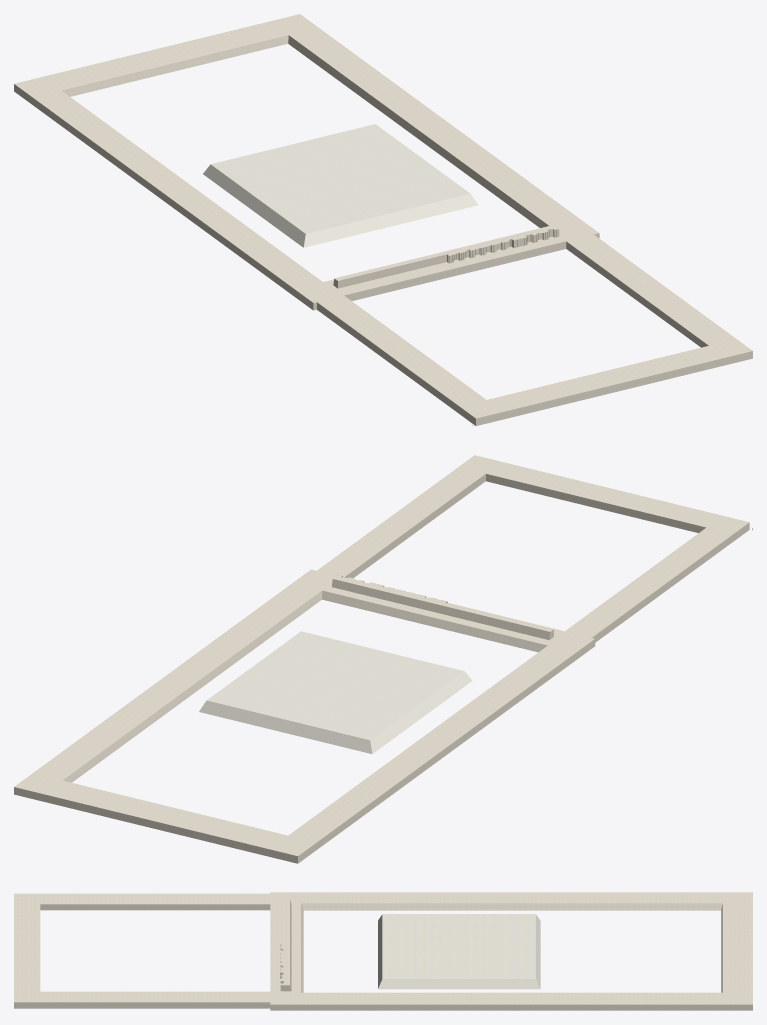
The model's file is Sekhemkhet_Pyramid.obj.
3 renders of one model, top to bottom at view 1: azimuth 30°, elevation 25°; view 2: azimuth 150°, elevation 25°; view 3: azimuth 270°, elevation 25°, orthographic. The views are drawn at different scales.
Parts seen in each view (by area): view 1: Mesh2 Model, Mesh1 Model; view 2: Mesh2 Model, Mesh1 Model; view 3: Mesh2 Model, Mesh1 Model.
Part boxes in pixels (<box>): Mesh2 Model: <box>14,14,752,425</box>; Mesh1 Model: <box>203,124,477,247</box>; Mesh2 Model: <box>14,455,749,863</box>; Mesh1 Model: <box>199,631,472,753</box>; Mesh2 Model: <box>14,892,752,1010</box>; Mesh1 Model: <box>378,914,540,989</box>.
Size of what is drawn, in the model's own units: 196 by 10 by 545.
